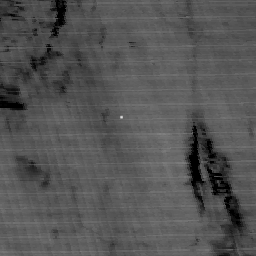Target: (118, 113, 124, 121)
